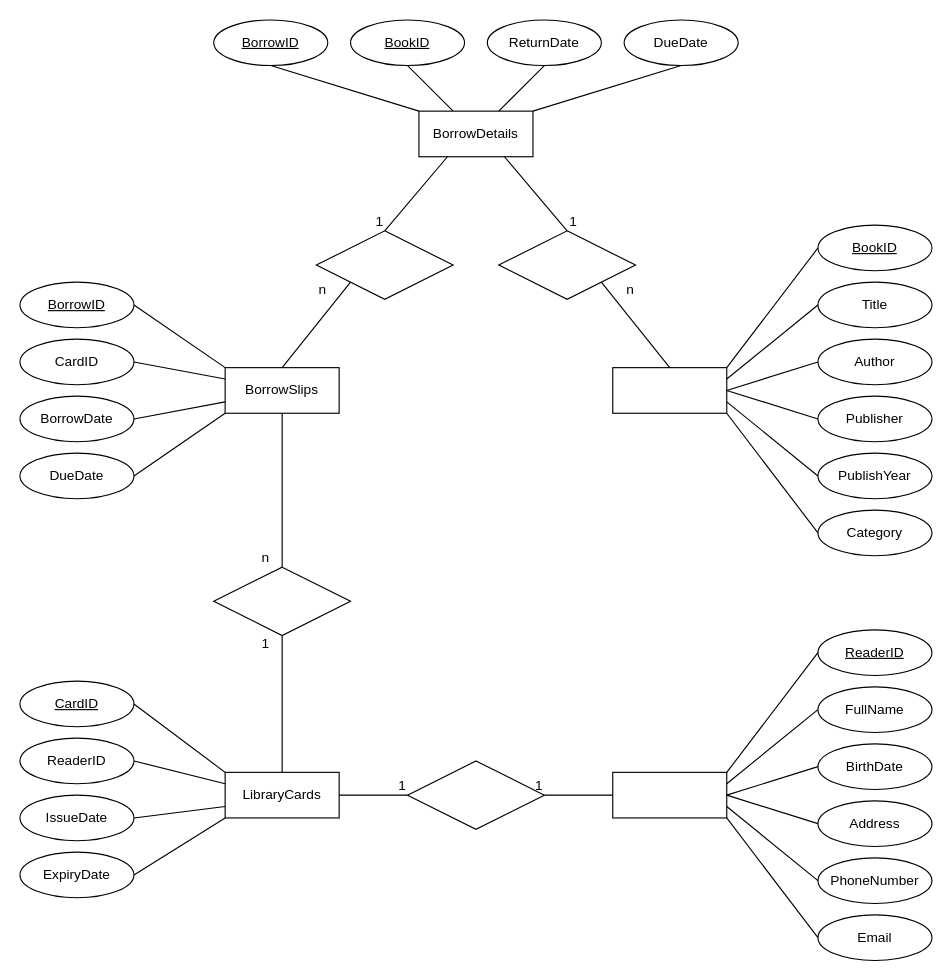
Image size: 952x980. Some labels were removed from this diagram. Here are the shapes that lost their labels. From the top down, the box of each, then its label:
(315, 230, 453, 299): Include
(498, 230, 636, 299): Listed I n
(612, 367, 727, 413): Books
(213, 566, 351, 636): Create
(406, 760, 544, 829): Own
(612, 771, 727, 818): Readers
